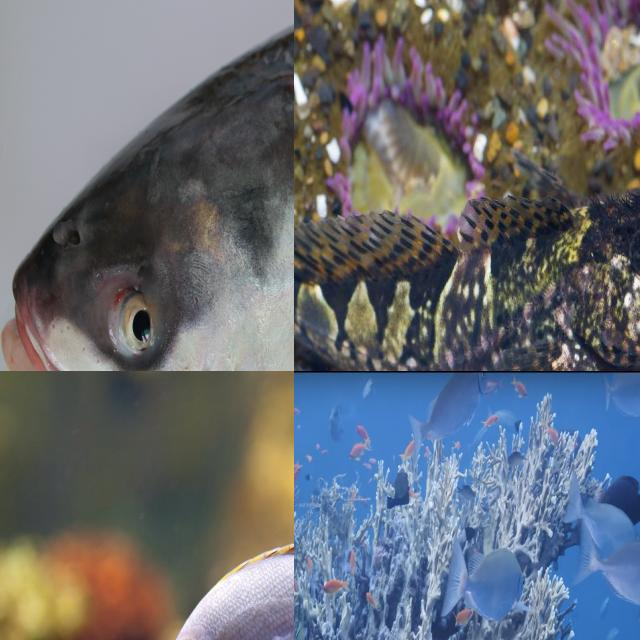fish: (0, 0, 294, 371), (294, 146, 640, 371), (0, 540, 219, 623), (294, 495, 362, 604)
